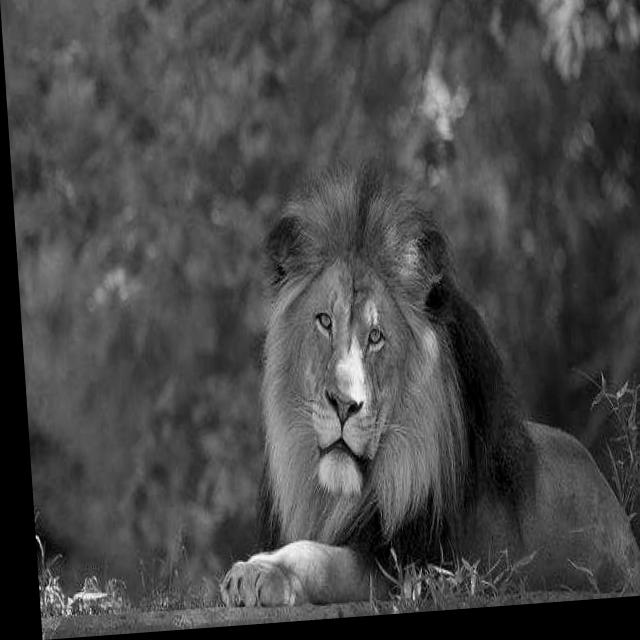Lion: (231, 124, 519, 587)
